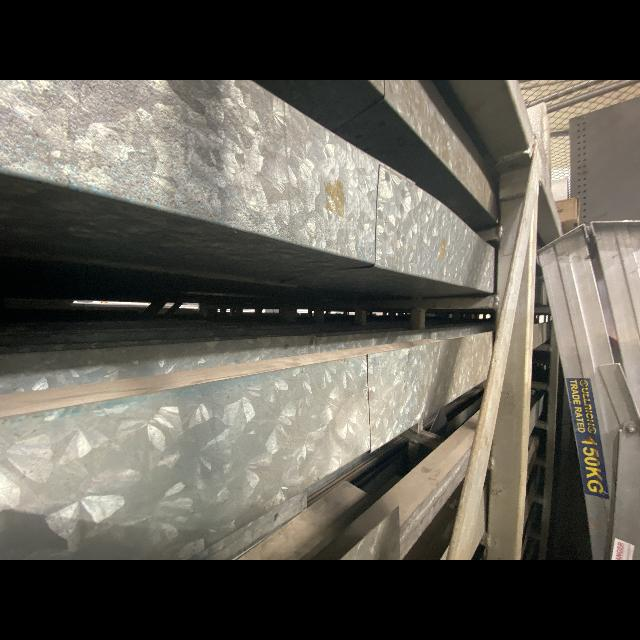Galvanized Steel: (0, 356, 370, 560), (0, 80, 380, 264), (369, 80, 500, 222), (0, 335, 315, 394), (367, 331, 495, 455), (375, 164, 494, 291), (400, 445, 472, 560), (315, 324, 492, 353), (338, 506, 399, 560)
Stainless Steel: (0, 339, 438, 417), (310, 409, 480, 560), (236, 481, 372, 560)
